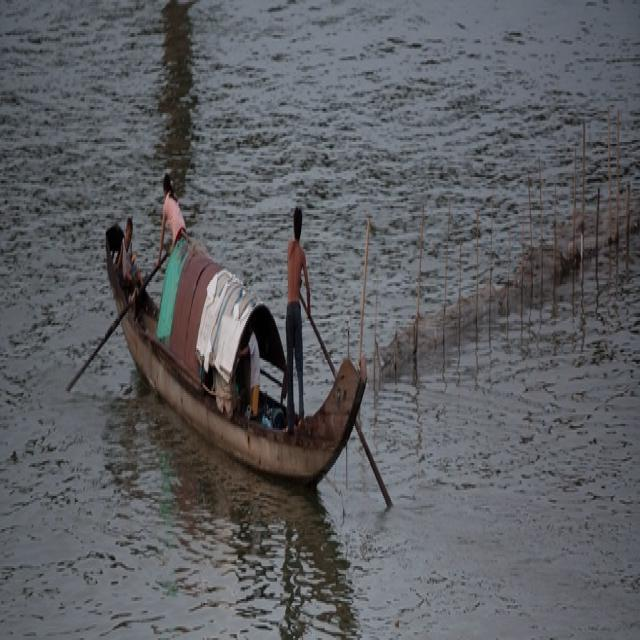boat: (73, 220, 383, 483)
